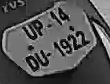1: (49, 12, 64, 28), (53, 43, 66, 58)
2: (74, 30, 89, 48), (67, 34, 81, 51)
4: (56, 6, 71, 23)
9: (59, 35, 73, 55)
D: (25, 55, 41, 73)
P: (31, 18, 46, 36)
U: (23, 24, 38, 41), (36, 49, 49, 67)
